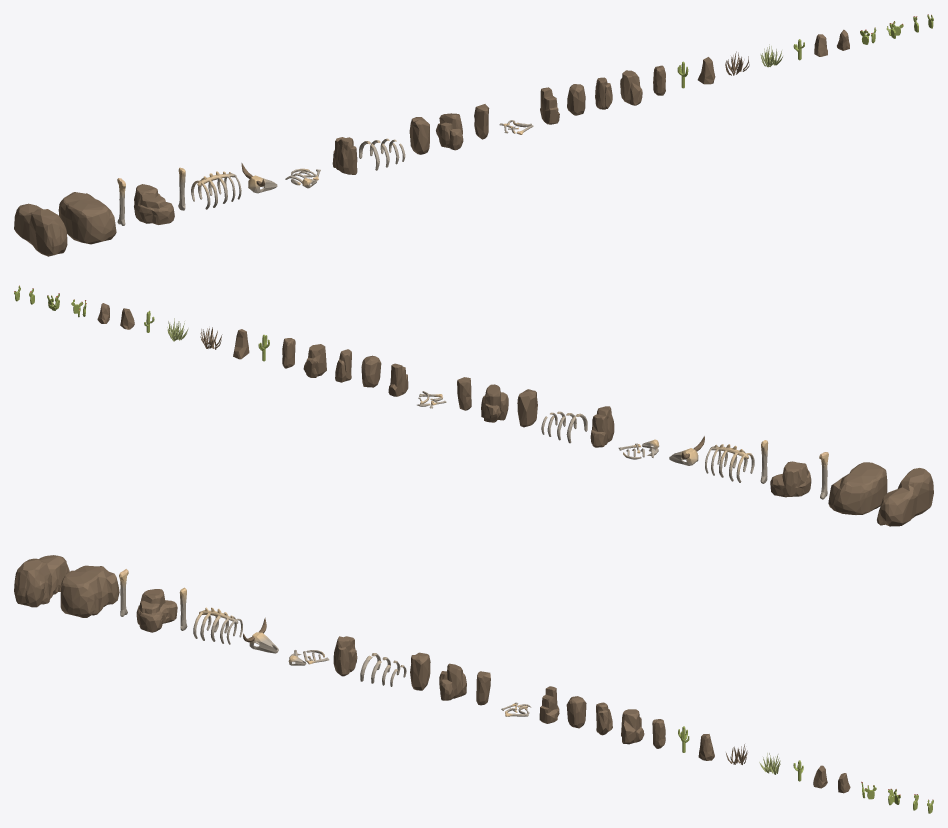
Rendered from DesertProps.fbx.
3 views of the same model, one above another, from view 1: azimuth 30°, elevation 25°; view 2: azimuth 150°, elevation 25°; view 3: azimuth 330°, elevation 25° (orthographic).
Visible parts, largest first — view 1: DesertProps_02, DesertProps_01, DesertProps_04, DesertProps_06, DesertProps_12, DesertProps_09, DesertProps_11, DesertProps_18, DesertProps_15, DesertProps_10, DesertProps_16; view 2: DesertProps_02, DesertProps_01, DesertProps_04, DesertProps_06, DesertProps_12, DesertProps_09, DesertProps_11, DesertProps_18, DesertProps_10, DesertProps_16, DesertProps_15; view 3: DesertProps_02, DesertProps_01, DesertProps_04, DesertProps_06, DesertProps_12, DesertProps_09, DesertProps_11, DesertProps_18, DesertProps_15, DesertProps_10, DesertProps_16.
Part boxes in pixels (box(x1,y1,x2,y2)): DesertProps_02: box(58, 192, 116, 244); DesertProps_01: box(14, 203, 67, 256); DesertProps_04: box(134, 184, 174, 224); DesertProps_06: box(191, 171, 241, 209); DesertProps_12: box(436, 113, 463, 150); DesertProps_09: box(332, 137, 357, 174); DesertProps_11: box(409, 117, 429, 154); DesertProps_18: box(620, 70, 642, 105); DesertProps_15: box(540, 87, 559, 124); DesertProps_10: box(359, 138, 405, 170); DesertProps_16: box(567, 84, 585, 115); DesertProps_02: box(828, 462, 887, 514); DesertProps_01: box(877, 468, 933, 526); DesertProps_04: box(770, 461, 811, 497); DesertProps_06: box(705, 444, 754, 482); DesertProps_12: box(481, 384, 508, 422); DesertProps_09: box(590, 406, 614, 447); DesertProps_11: box(517, 389, 537, 427); DesertProps_18: box(303, 344, 326, 377); DesertProps_10: box(541, 411, 587, 443); DesertProps_16: box(361, 355, 381, 387); DesertProps_15: box(388, 363, 408, 396); DesertProps_02: box(60, 565, 119, 617); DesertProps_01: box(14, 555, 69, 607); DesertProps_04: box(136, 589, 177, 632); DesertProps_06: box(193, 607, 242, 644); DesertProps_12: box(439, 663, 466, 700); DesertProps_09: box(333, 636, 357, 676); DesertProps_11: box(410, 652, 430, 690); DesertProps_18: box(621, 709, 644, 744); DesertProps_15: box(539, 686, 559, 723); DesertProps_10: box(360, 653, 406, 686); DesertProps_16: box(566, 696, 586, 728).
Bounding box in the file's own units: 70.31 × 3.35 × 5.34.
1 material, 1 textured.
